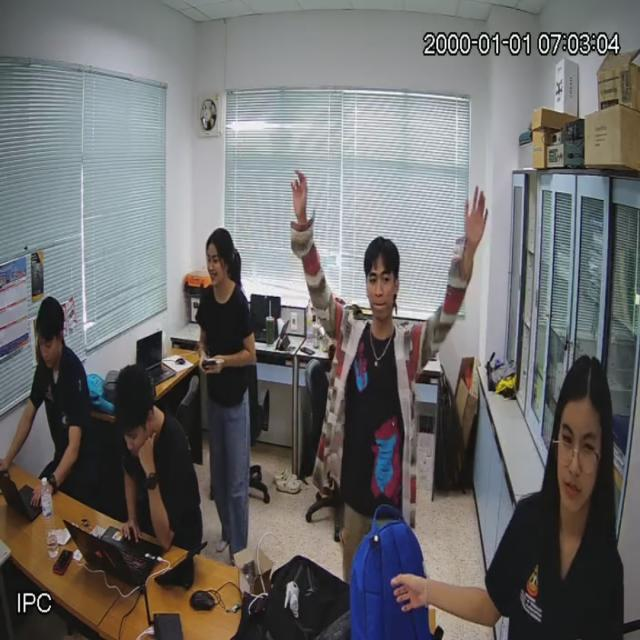normal: (339, 231, 417, 531), (0, 294, 91, 512), (201, 230, 255, 542), (118, 365, 200, 558)
